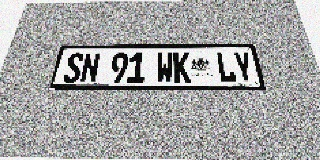1: (127, 52, 145, 83)
9: (109, 53, 129, 83)
K: (173, 52, 191, 83)
L: (216, 52, 237, 83)
N: (79, 53, 101, 83)
S: (62, 53, 85, 83)
W: (156, 52, 173, 83)
Y: (232, 52, 255, 83)
